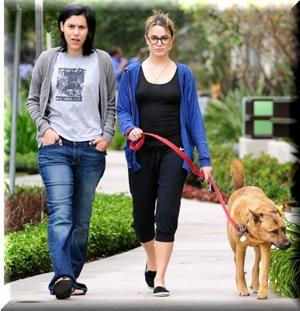person: (118, 16, 214, 295)
